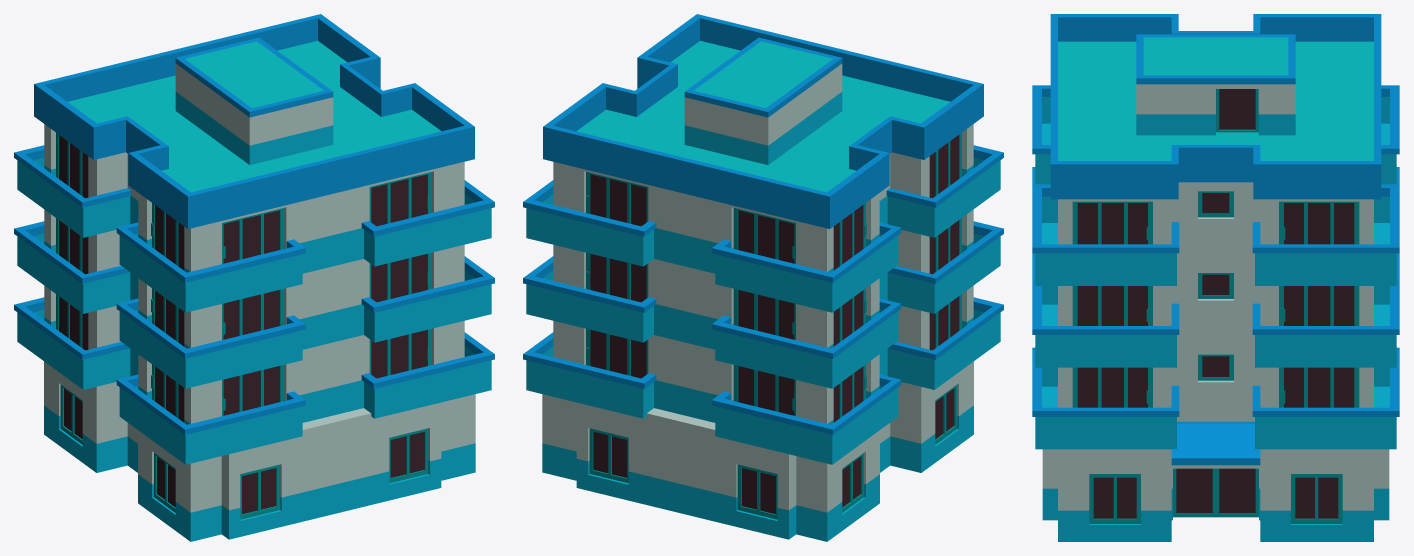
Rendered from PublicBuilding_8.glb.
3 views of the same model, side by side, from view 1: azimuth 30°, elevation 25°; view 2: azimuth 150°, elevation 25°; view 3: azimuth 270°, elevation 25° (orthographic). The views are drawn at different scales.
Visible parts, largest first — view 1: PublicBuilding_8; view 2: PublicBuilding_8; view 3: PublicBuilding_8.
Boxes of the visible parts, x1,y1,x2,y2 form: PublicBuilding_8: (14,14,494,541); PublicBuilding_8: (523,14,1003,541); PublicBuilding_8: (1032,14,1399,541).
Size of the model in its own units: 0.0574 by 0.0672 by 0.0548.
1 material, 1 textured.
